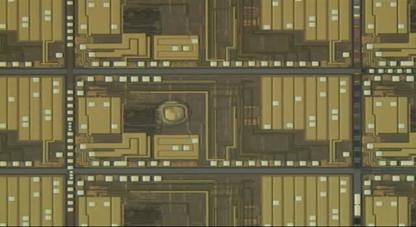BLOCK ETCH: (152, 99, 194, 129)
